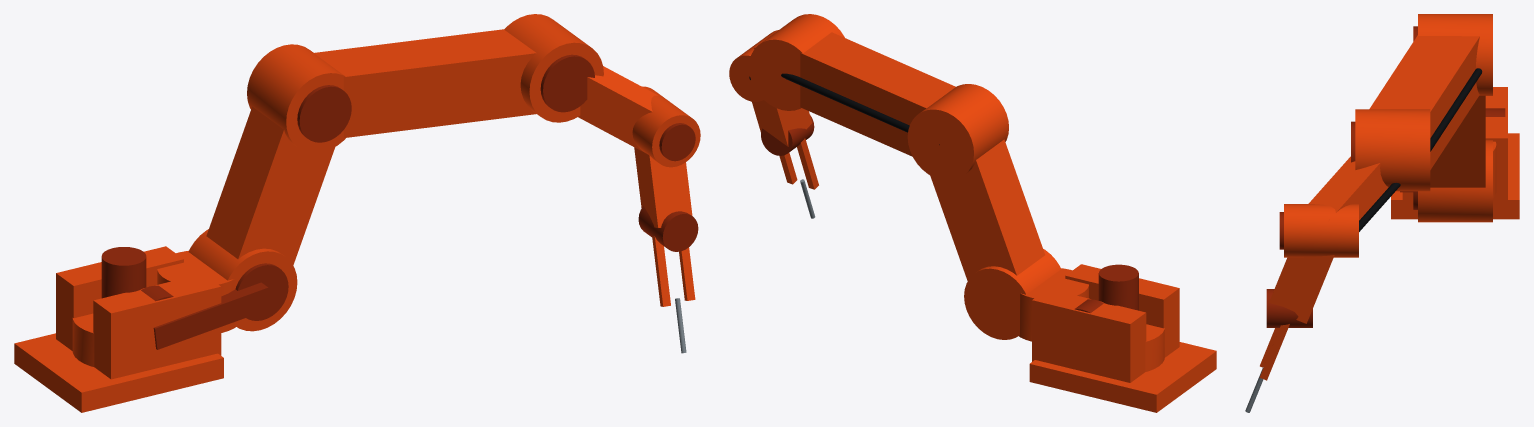
The model's file is sorting_robot.dae.
3 renders of one model, left to right at view 1: azimuth 30°, elevation 25°; view 2: azimuth 150°, elevation 25°; view 3: azimuth 270°, elevation 25°, orthographic. The views are drawn at different scales.
Parts seen in each view (by area): view 1: sorting_robot; view 2: sorting_robot; view 3: sorting_robot.
Boxes of the visible parts, <box> form: sorting_robot: <box>14,14,700,412</box>; sorting_robot: <box>729,14,1216,412</box>; sorting_robot: <box>1245,14,1519,412</box>.
Bounding box in the file's own units: 3.48 × 1.54 × 1.67.
